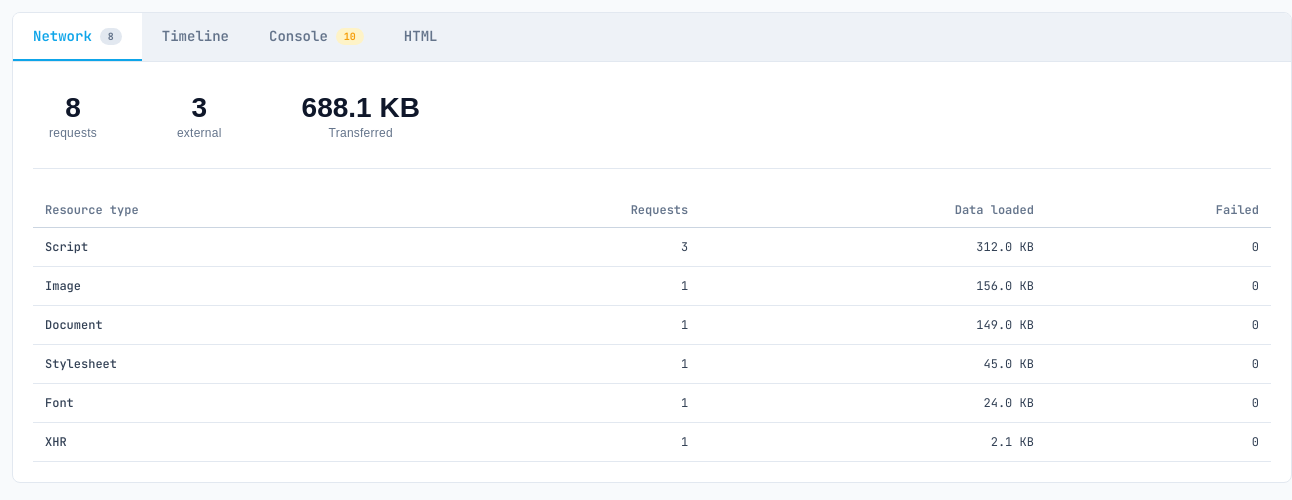
Test case: ResultTabs › switches to HTML tab when clicked
The width and height of the screenshot is (1292, 500).
Click the button "HTML" at x=421, y=37, box x1=384 y1=13 x2=457 y2=61
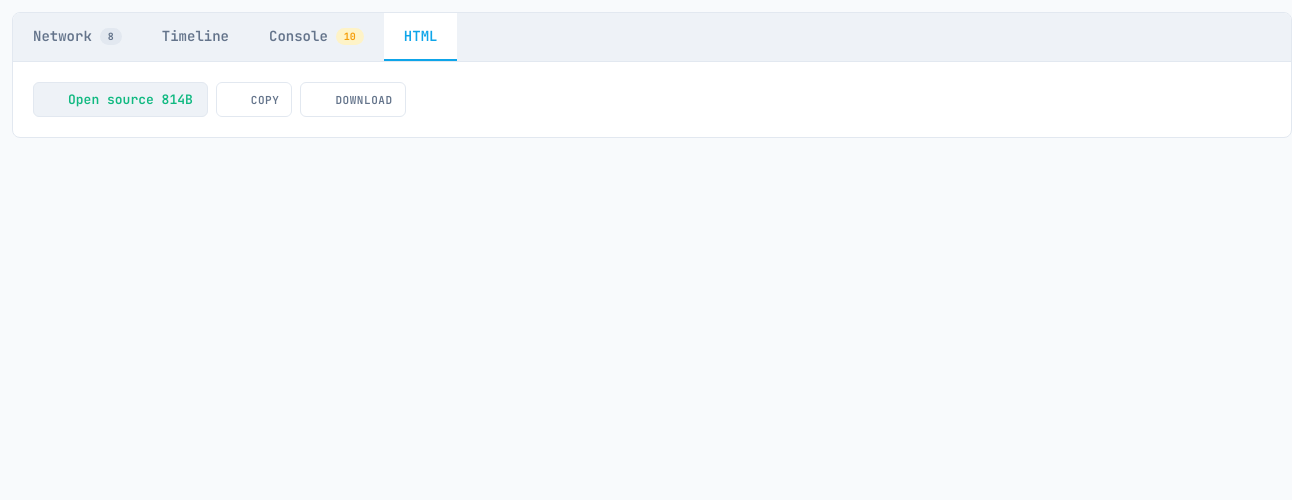
Result: the button "Copy" is shown at x1=216 y1=82 x2=292 y2=117
Result: the button "Download" is shown at x1=300 y1=82 x2=406 y2=117
